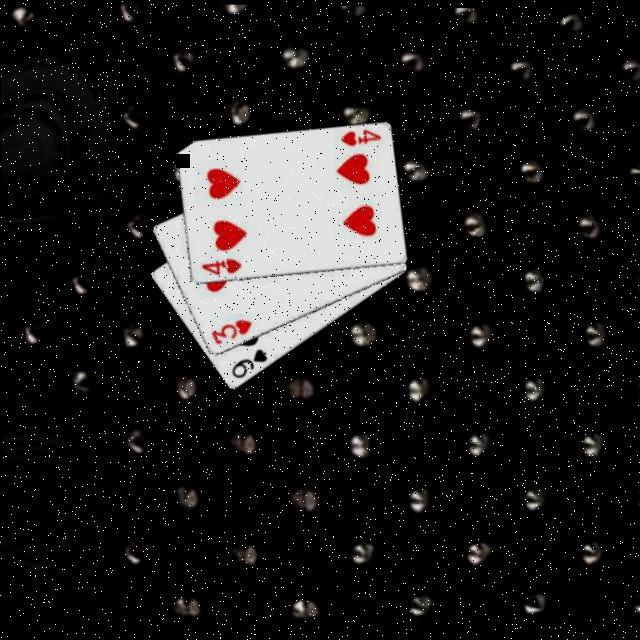3H: (206, 316, 252, 348)
4H: (336, 126, 382, 150), (196, 256, 242, 279)
9S: (226, 346, 268, 382)
